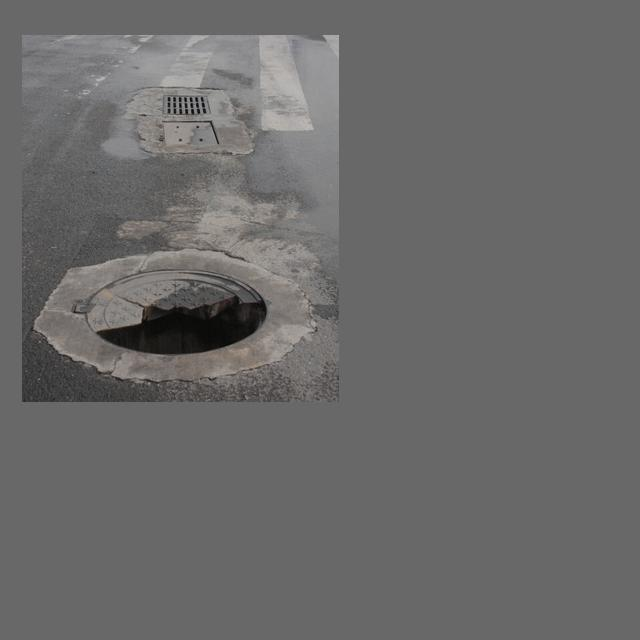broke: (43, 230, 310, 388)
